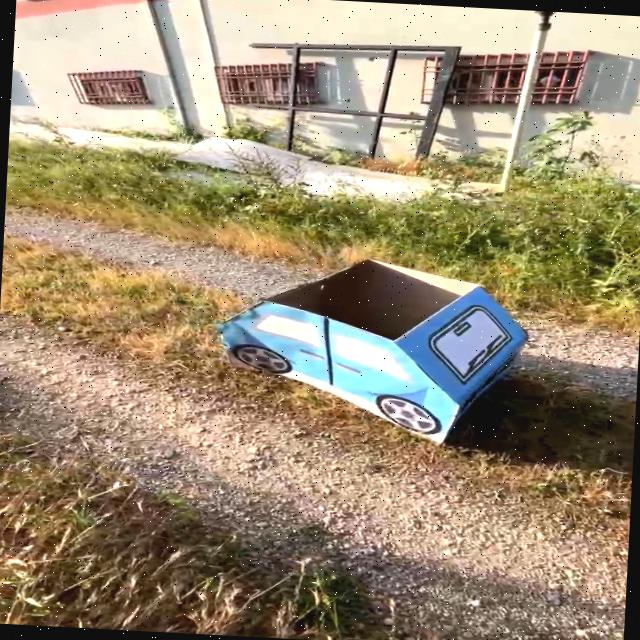blue_car: (177, 236, 571, 467)
